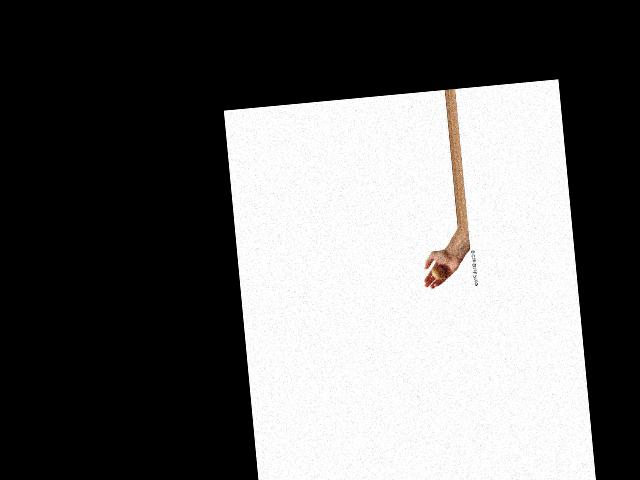egg: (431, 266, 446, 281)
